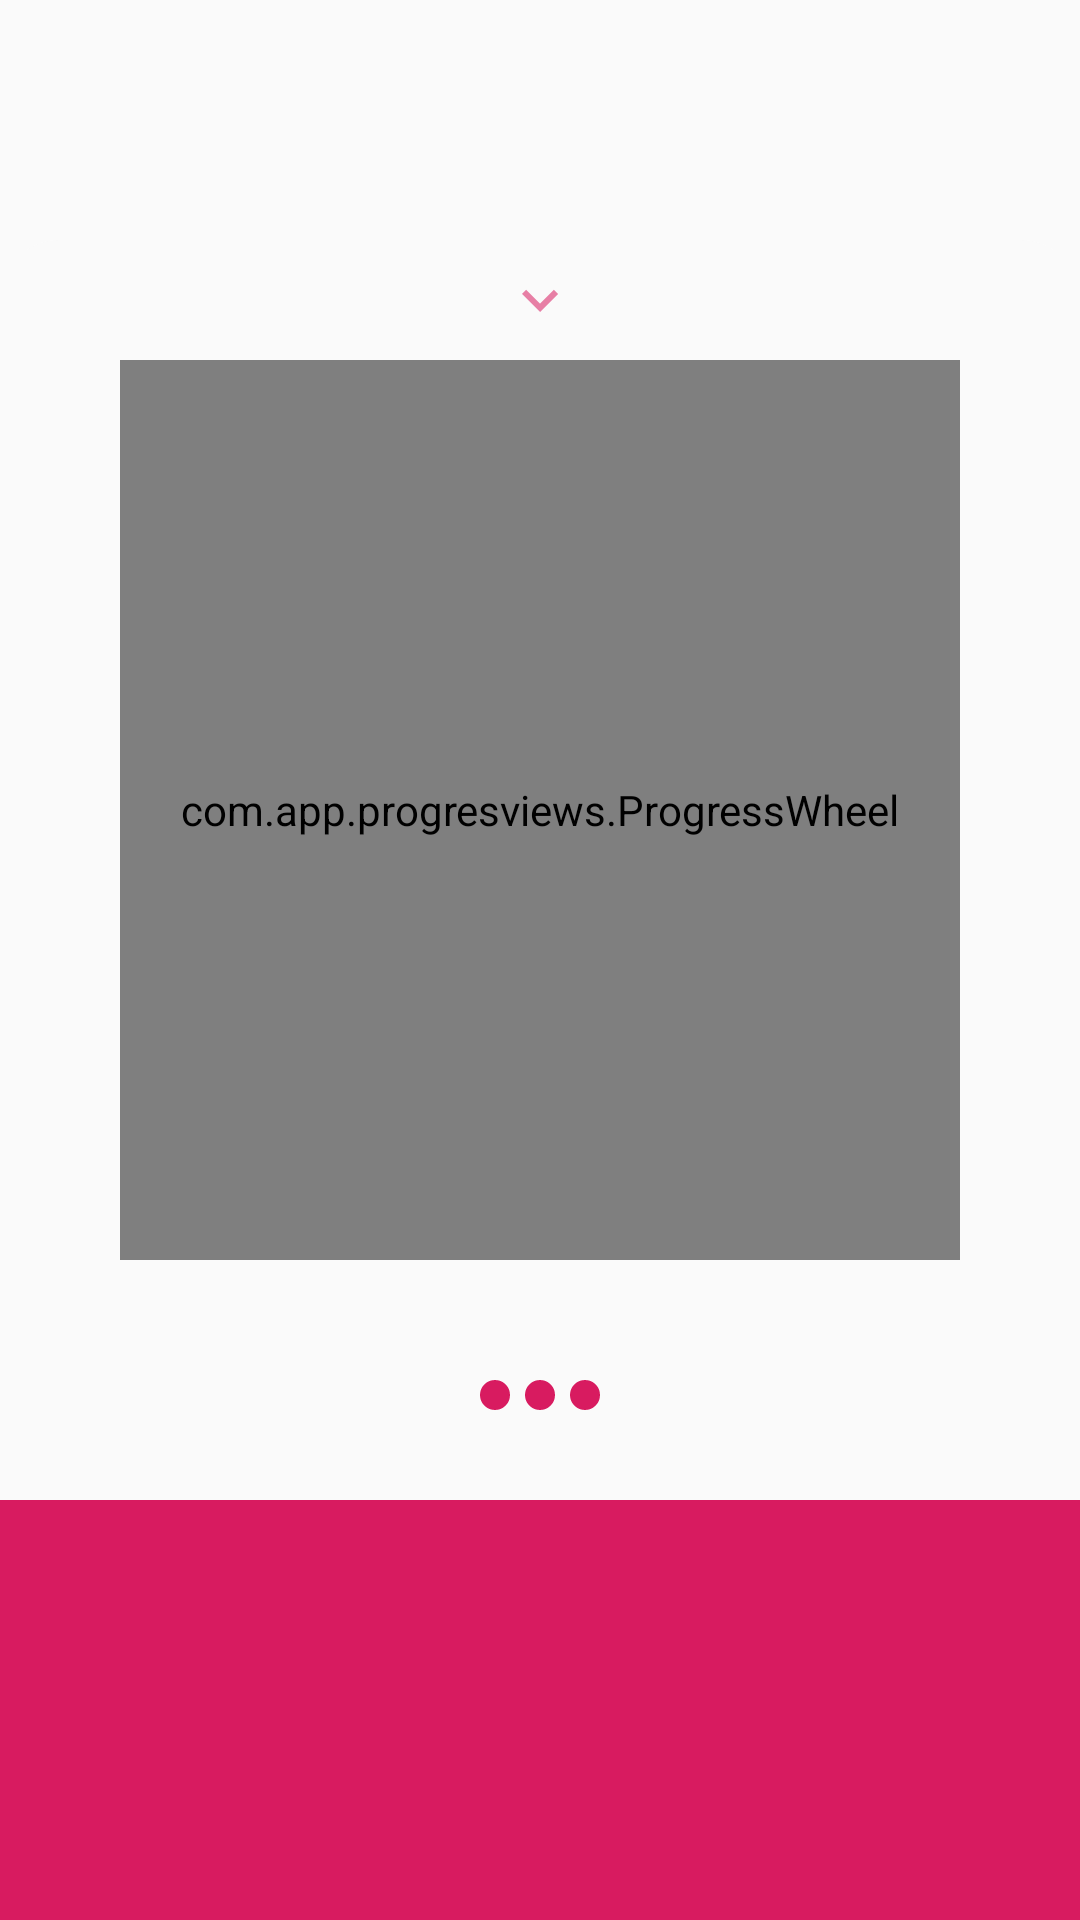

Locate icon controls on the screen. Image size 1080 x 1920, boxes as (x1, y1, x2, y2).
keyboard arrow down: (522, 290, 558, 312)
